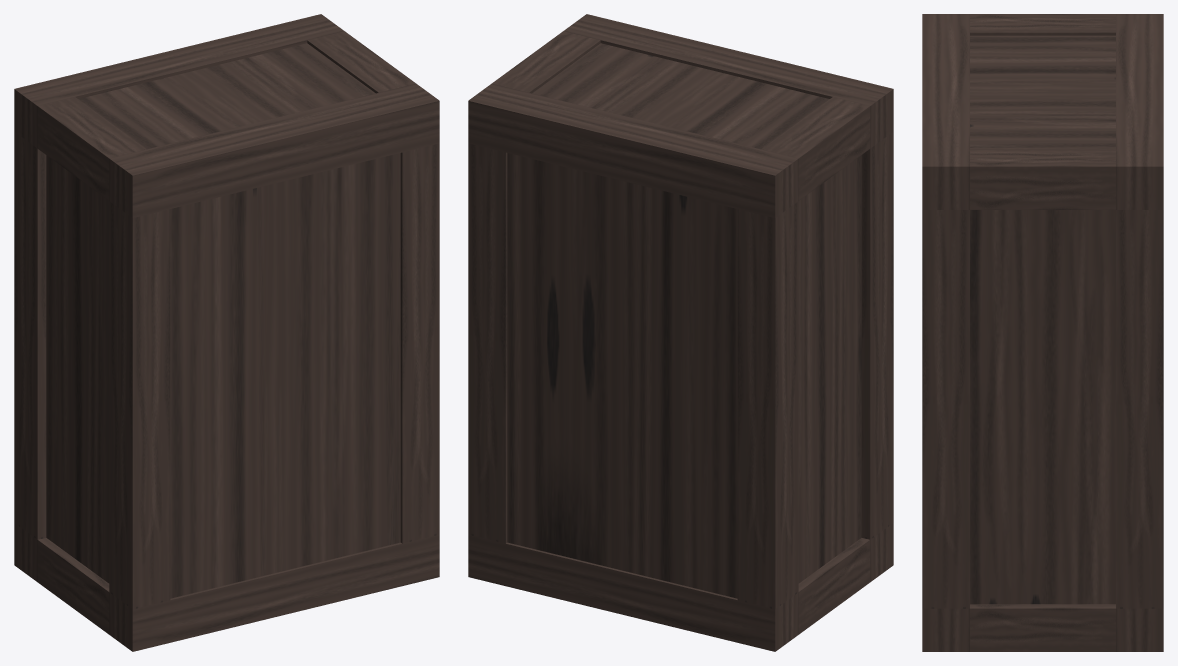
Rendered from ScatterBoxA03.fbx.
The picture shows the model from 3 angles, left to right: view 1: azimuth 30°, elevation 25°; view 2: azimuth 150°, elevation 25°; view 3: azimuth 270°, elevation 25°; orthographic projection.
Visible parts, largest first — view 1: ScatterBoxA03; view 2: ScatterBoxA03; view 3: ScatterBoxA03.
Part boxes in pixels (x1=…): ScatterBoxA03: x1=14, y1=14, x2=439, y2=651; ScatterBoxA03: x1=468, y1=14, x2=893, y2=651; ScatterBoxA03: x1=922, y1=14, x2=1163, y2=651.
Bounding box in the file's own units: 123 × 182 × 82.2.
